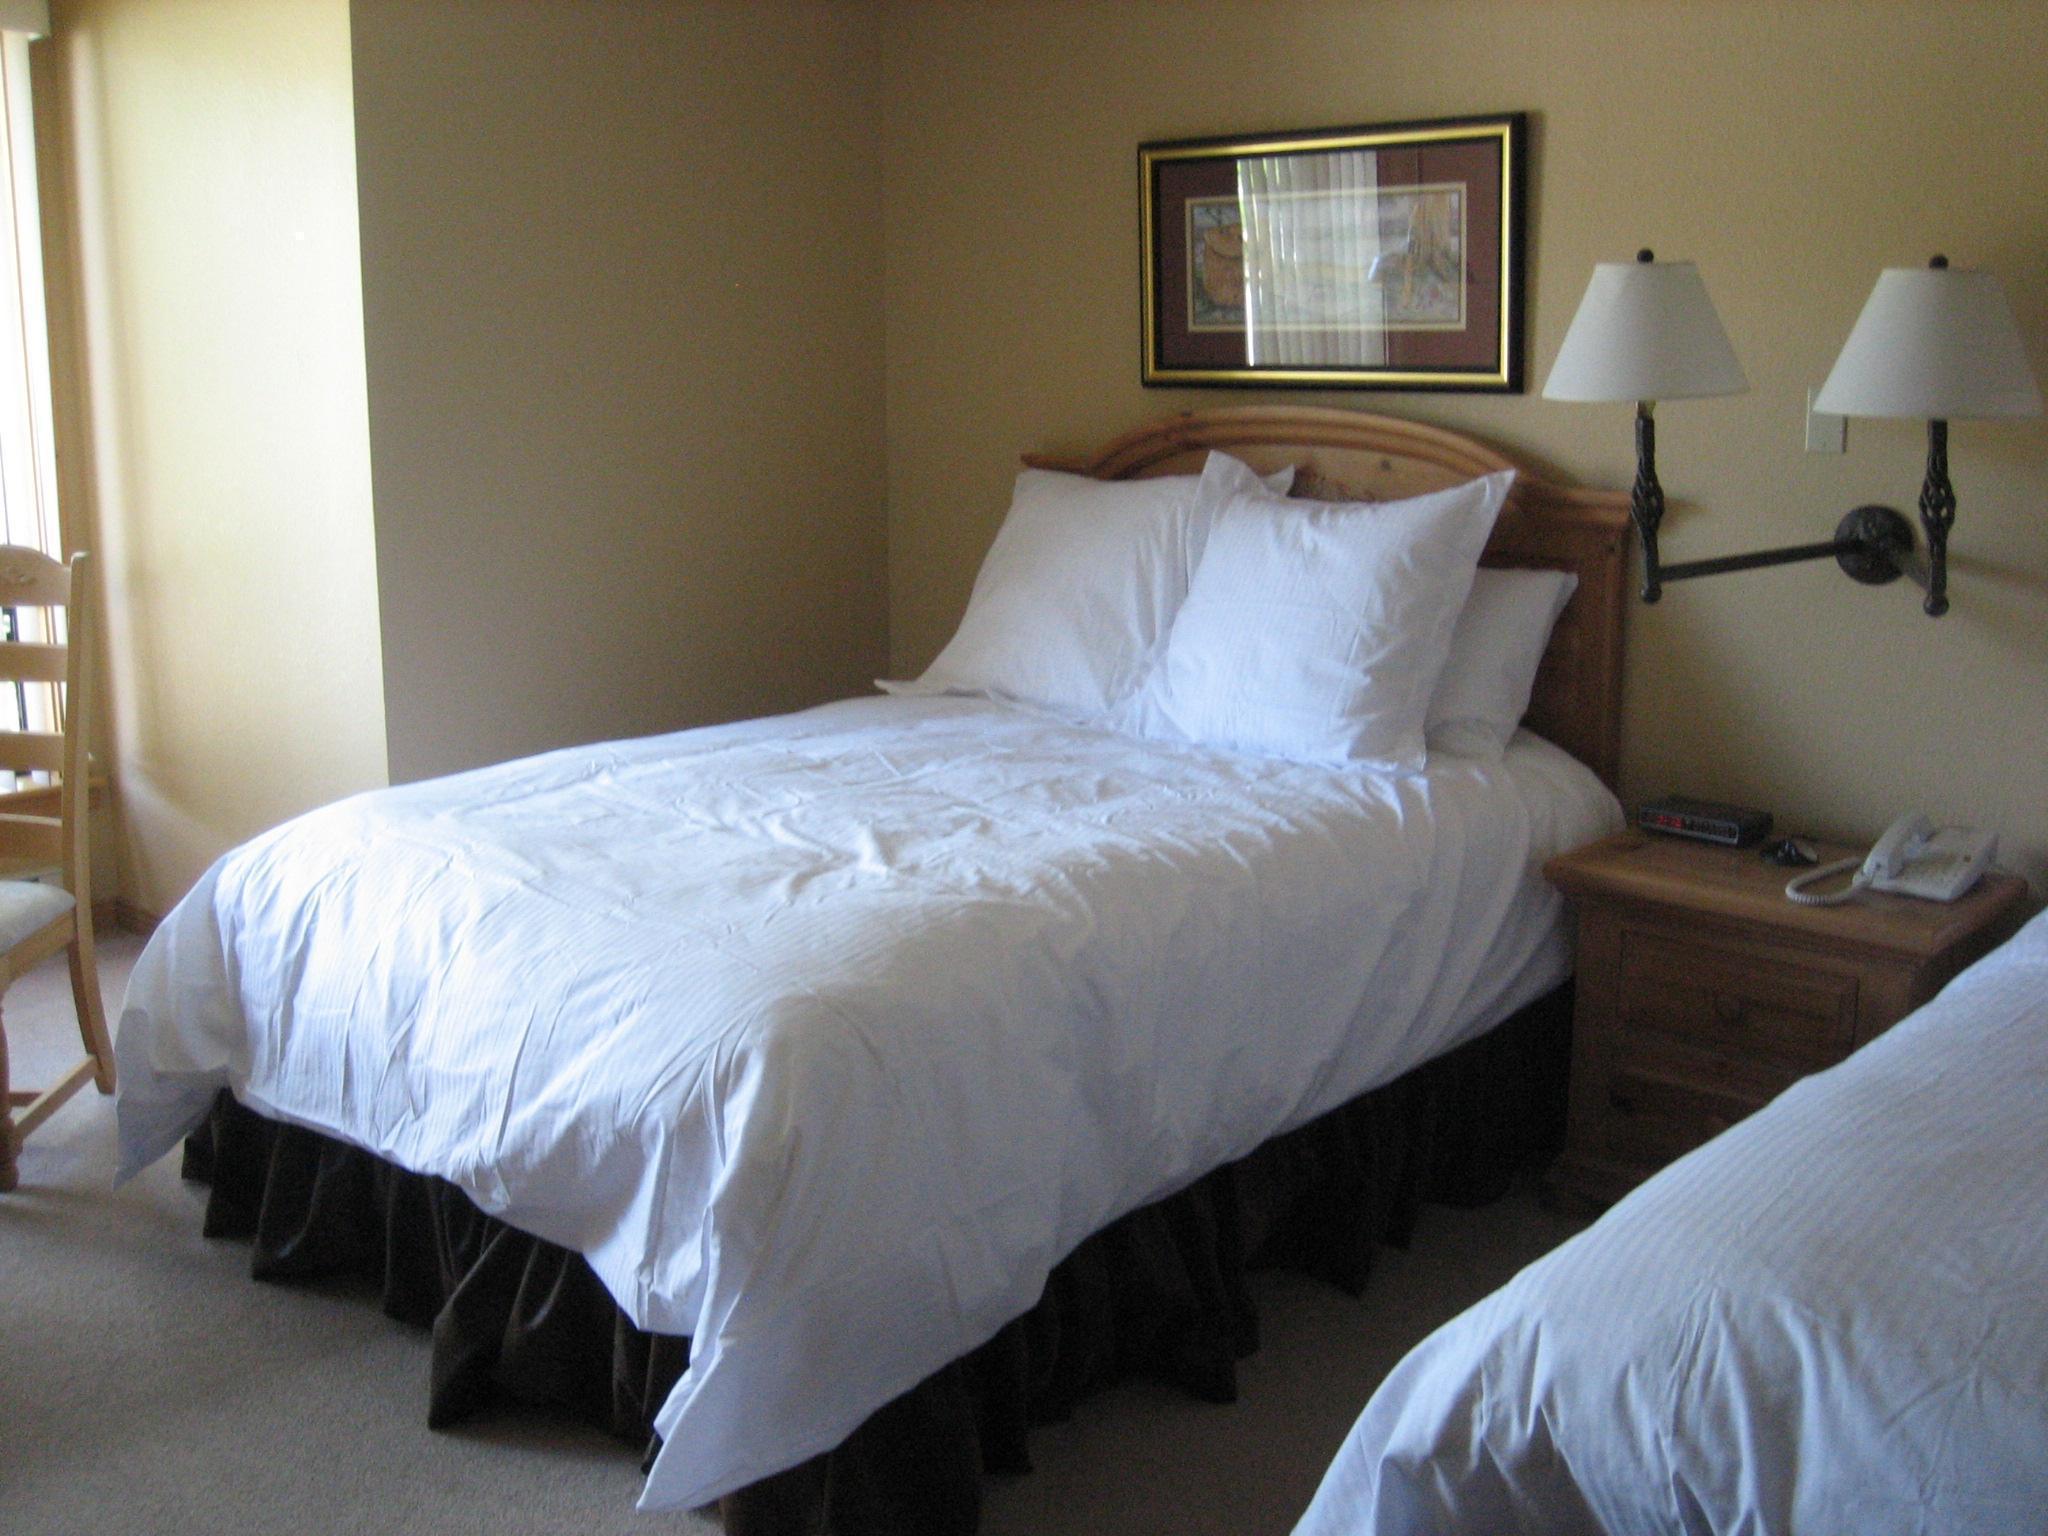Cama: (184, 407, 1634, 1521), (1276, 908, 2024, 1509)
Otro Obstaculo: (1608, 236, 1998, 670)
